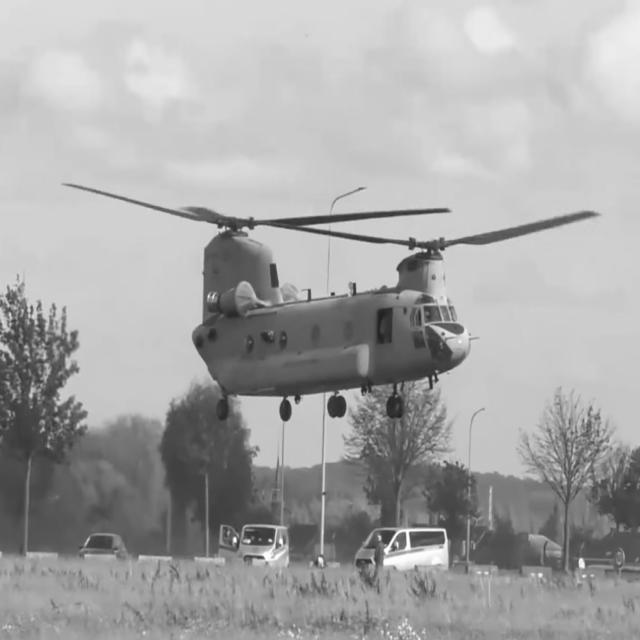Helicopter: (66, 183, 598, 414)
